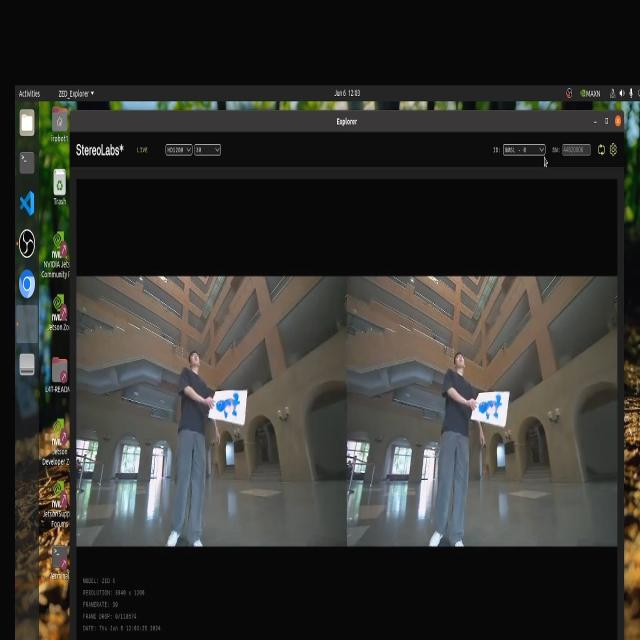blue: (480, 381, 511, 427), (213, 384, 243, 418)
